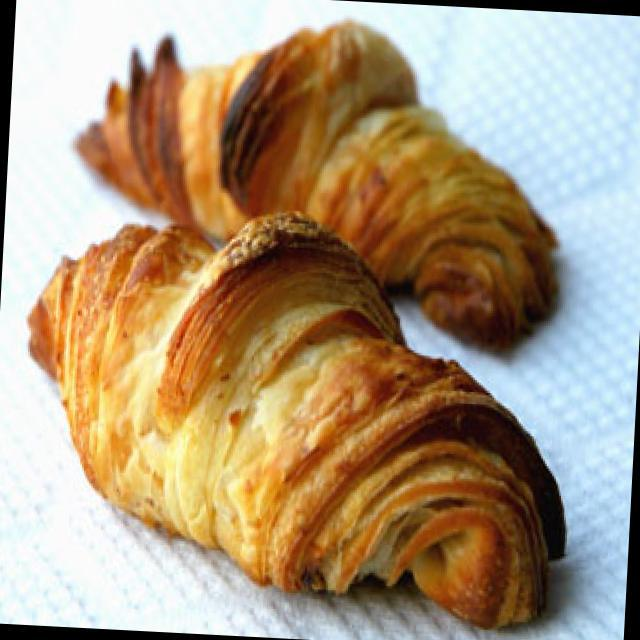Croissant: (16, 202, 581, 621)
